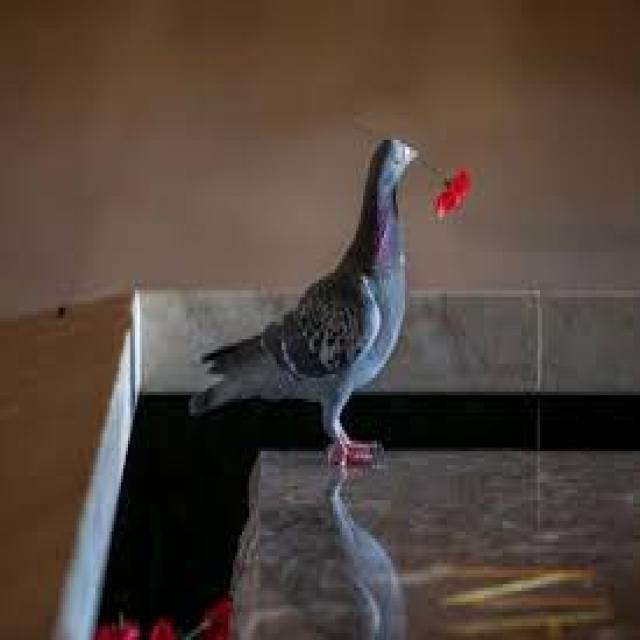pigeon: (180, 129, 427, 454)
